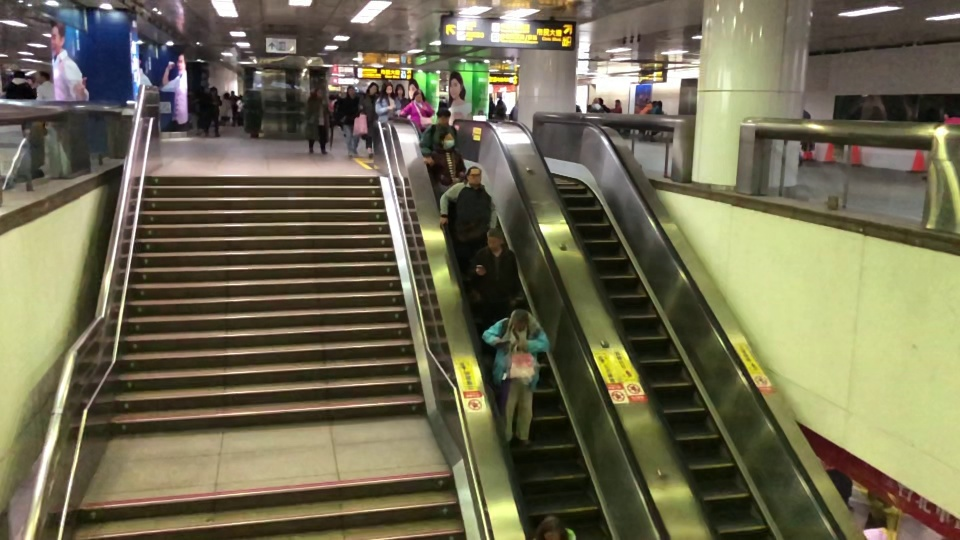person_head: (536, 515, 569, 540), (510, 308, 529, 332), (486, 227, 504, 251), (438, 129, 457, 149), (466, 166, 483, 185), (435, 107, 451, 125), (35, 70, 51, 84), (412, 88, 425, 102), (365, 82, 378, 95), (12, 68, 26, 79), (383, 81, 393, 95), (395, 83, 405, 97), (345, 85, 355, 97), (209, 85, 219, 96), (314, 86, 323, 98), (591, 96, 600, 104)
person_vbox: (481, 307, 551, 447), (439, 165, 497, 270), (469, 227, 520, 327), (427, 131, 467, 198), (417, 107, 458, 157), (303, 87, 330, 156), (338, 85, 363, 159), (358, 82, 381, 159), (399, 88, 435, 132), (375, 81, 401, 122), (5, 69, 38, 101), (203, 86, 223, 138), (34, 68, 56, 101), (395, 83, 411, 111), (588, 97, 607, 114)
